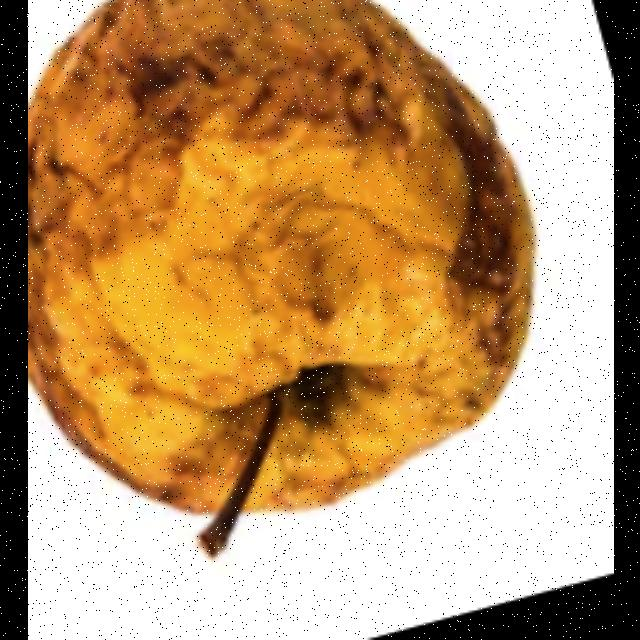Apel Tidak Segar: (27, 0, 536, 513)
